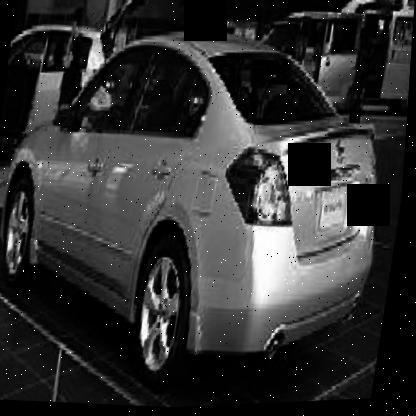not_emergency: (0, 18, 403, 405)
